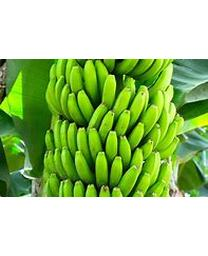banana: (41, 59, 181, 195)
